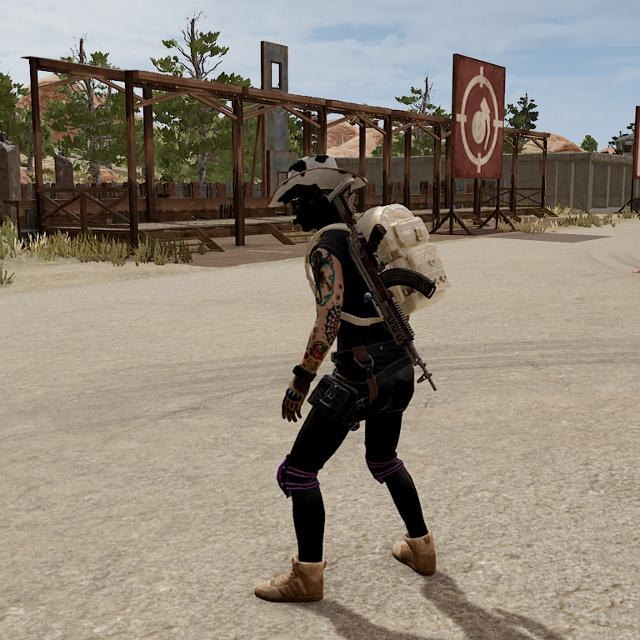head: (275, 150, 361, 235)
people: (242, 140, 470, 608)
